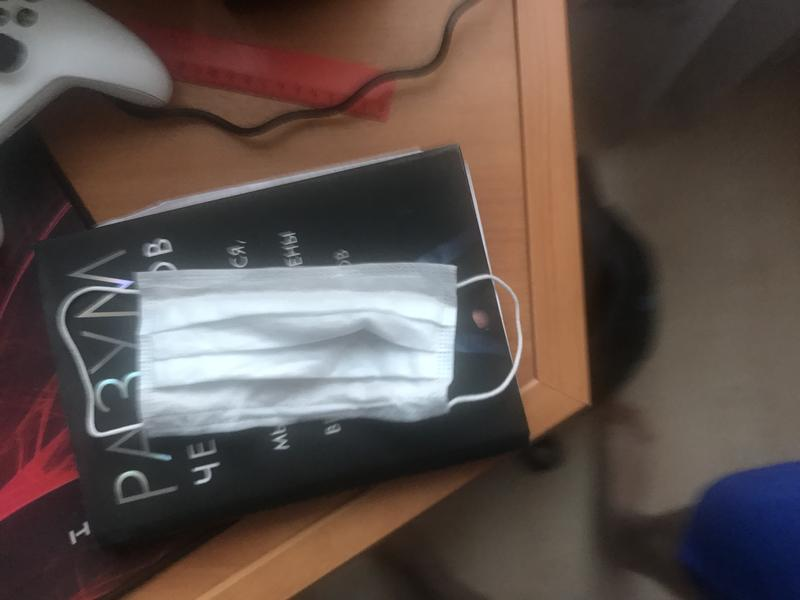medical_mask: (56, 263, 525, 441)
